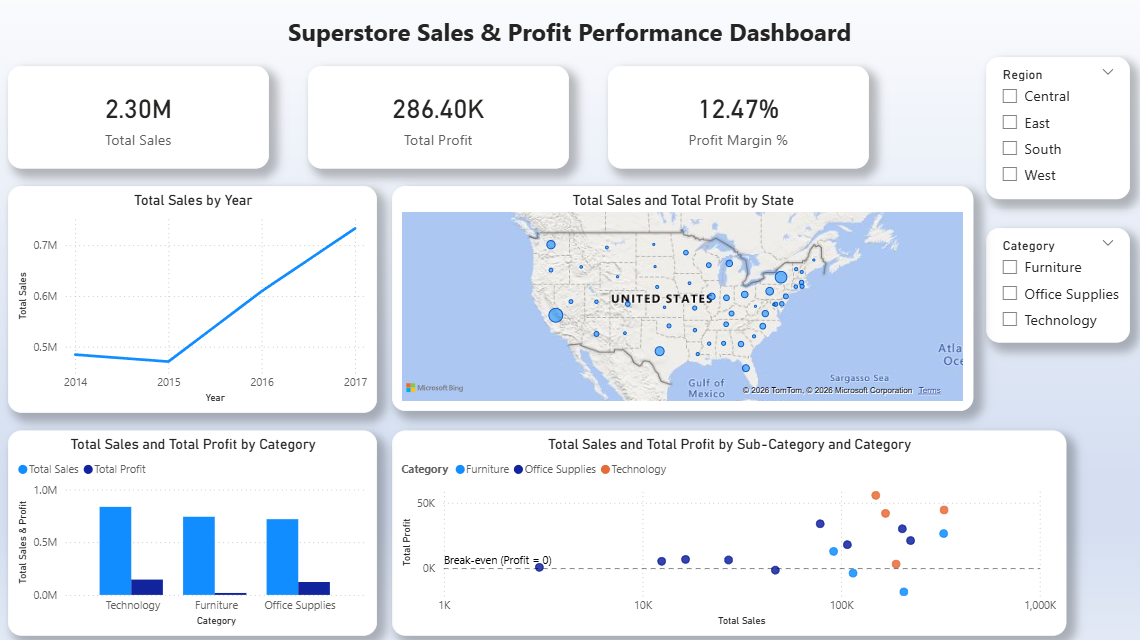

The dashboard page shown, as its layout file describes it:
{"tool":"powerbi","page":{"name":"Page 1","canvas":[1280,720],"ordinal":0},"visuals":[{"type":"slicer","fields":{"Values":["DimGeography.Region"]},"box":[1104,66,160,158],"z":0},{"type":"card","fields":{"Values":["_Measures.Total Sales"]},"box":[16,77,290,114],"z":1000},{"type":"card","fields":{"Values":["_Measures.Total Profit"]},"box":[350,77,290,114],"z":2000},{"type":"card","fields":{"Values":["_Measures.Profit Margin %"]},"box":[683,77,290,114],"z":3000},{"type":"slicer","fields":{"Values":["DimProduct.Category"]},"box":[1104,256,160,127],"z":4000},{"type":"lineChart","fields":{"Category":["DimDate.Date.Variation.Date Hierarchy.Year","DimDate.Date.Variation.Date Hierarchy.Quarter","DimDate.Date.Variation.Date Hierarchy.Month","DimDate.Date.Variation.Date Hierarchy.Day"],"Y":["_Measures.Total Sales"]},"box":[16,210,410,252],"z":5000},{"type":"map","fields":{"Category":["DimGeography.State"],"Size":["_Measures.Total Sales"]},"box":[444,210,646,250],"z":6000},{"type":"scatterChart","fields":{"X":["_Measures.Total Sales"],"Y":["_Measures.Total Profit"],"Category":["DimProduct.Sub-Category"],"Series":["DimProduct.Category"]},"box":[444,481,749,228],"z":7000},{"type":"textbox","box":[16,15,1248,51],"z":8000},{"type":"clusteredColumnChart","fields":{"Category":["DimProduct.Category"],"Y":["_Measures.Total Sales","_Measures.Total Profit"]},"box":[16,481,410,228],"z":9000}]}

Visuals, with their boxes in screenshot pixels (x1, y1, x2, y2), scaled from the page's 1280x720 canvas onto the 1140x640 screenshot:
slicer - DimGeography.Region: pyautogui.locateOnScreen(983, 59, 1126, 199)
card - _Measures.Total Sales: pyautogui.locateOnScreen(14, 68, 273, 170)
card - _Measures.Total Profit: pyautogui.locateOnScreen(312, 68, 570, 170)
card - _Measures.Profit Margin %: pyautogui.locateOnScreen(608, 68, 867, 170)
slicer - DimProduct.Category: pyautogui.locateOnScreen(983, 228, 1126, 340)
lineChart - DimDate.Date.Variation.Date Hierarchy.Year x DimDate.Date.Variation.Date Hierarchy.Quarter: pyautogui.locateOnScreen(14, 187, 379, 411)
map - DimGeography.State x _Measures.Total Sales: pyautogui.locateOnScreen(395, 187, 971, 409)
scatterChart - _Measures.Total Sales x _Measures.Total Profit: pyautogui.locateOnScreen(395, 428, 1063, 630)
textbox: pyautogui.locateOnScreen(14, 13, 1126, 59)
clusteredColumnChart - DimProduct.Category x _Measures.Total Sales: pyautogui.locateOnScreen(14, 428, 379, 630)
